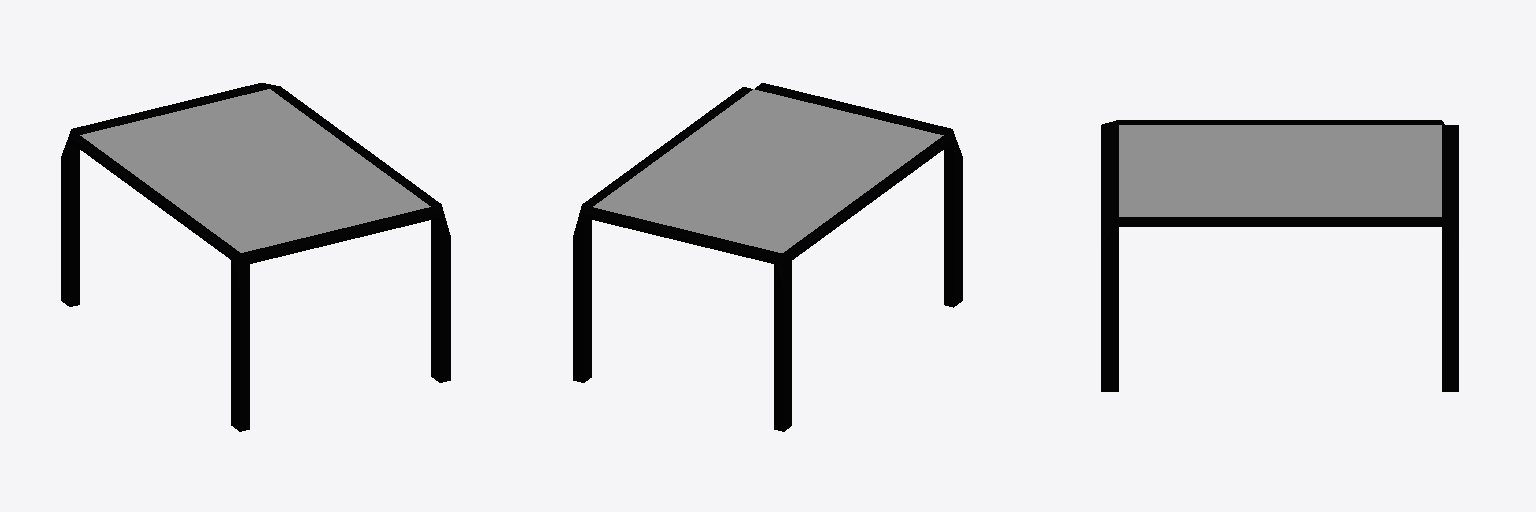
File: desk.obj
3 renders of one model, left to right at view 1: azimuth 30°, elevation 25°; view 2: azimuth 150°, elevation 25°; view 3: azimuth 270°, elevation 25°, orthographic.
Parts seen in each view (by area): view 1: Cube_Cube.001; view 2: Cube_Cube.001; view 3: Cube_Cube.001.
Boxes of the visible parts, x1,y1,x2,y2 form: Cube_Cube.001: [61, 83, 450, 431]; Cube_Cube.001: [573, 83, 962, 431]; Cube_Cube.001: [1101, 120, 1458, 391].
Size of the model in its own units: 2 by 1.54 by 2.94.